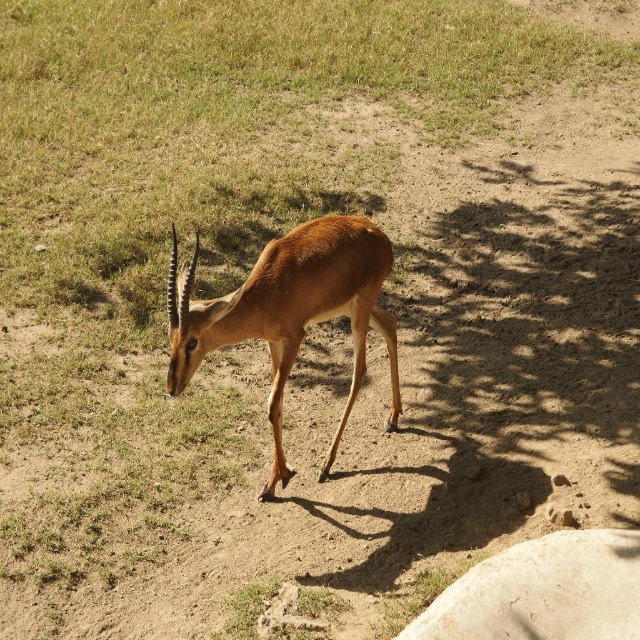Deer: (167, 219, 405, 501)
